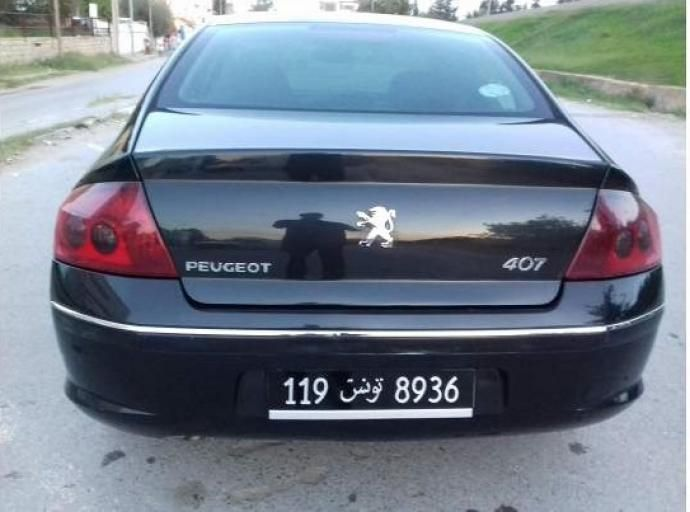LP: (266, 367, 478, 412)
